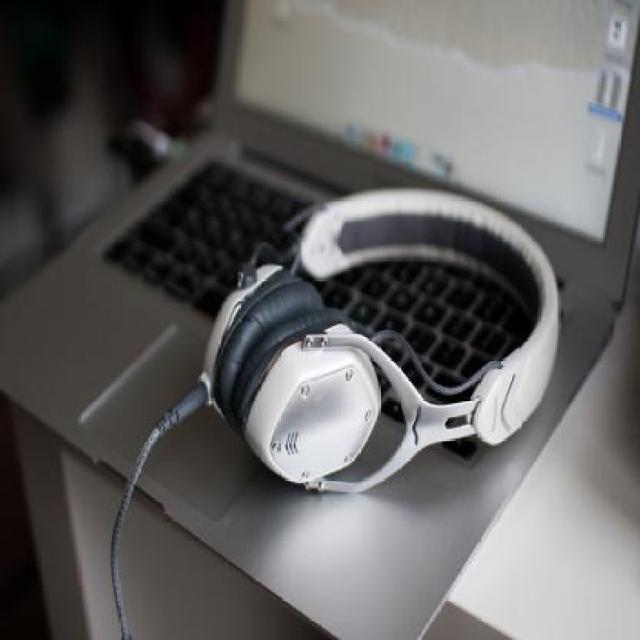earphone: (200, 160, 577, 497)
